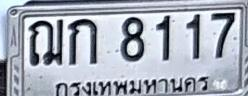1: (156, 15, 170, 61), (186, 13, 200, 59)
7: (210, 12, 235, 58)
8: (120, 16, 144, 62)
A01: (68, 18, 98, 65)
A12: (28, 18, 64, 66)
BKK: (53, 76, 210, 96)
